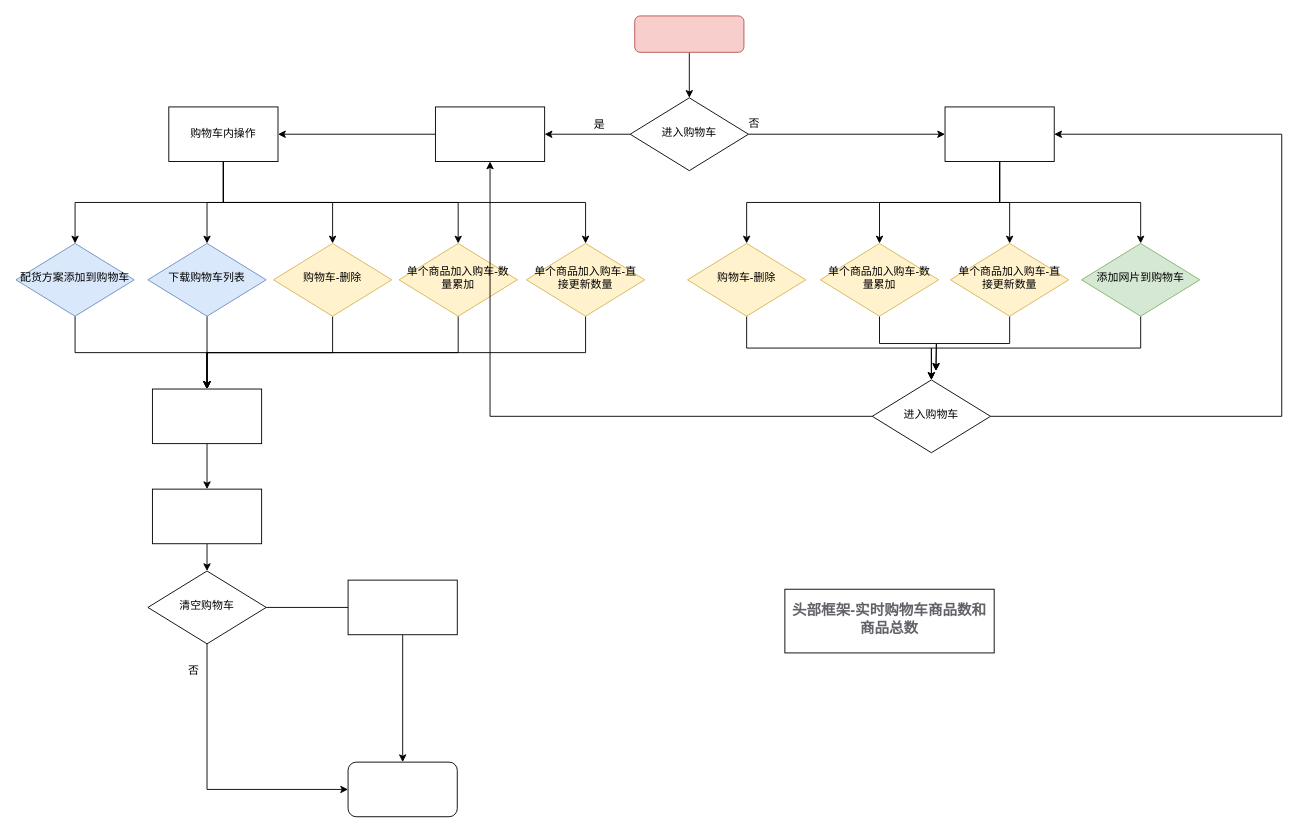
Image size: 1305x833. Some labels were removed from this diagram. The shapes that lost their labels are listed below. From the top down, each one's centre as x and y in pixels, then its label:
[689,33]: 开始购物
[490,134]: 购物车列表（不分页）
[999,134]: 购物车外操作
[207,416]: 确认订单
[207,516]: 提交
[402,607]: 购物车清空
[402,789]: 结束
